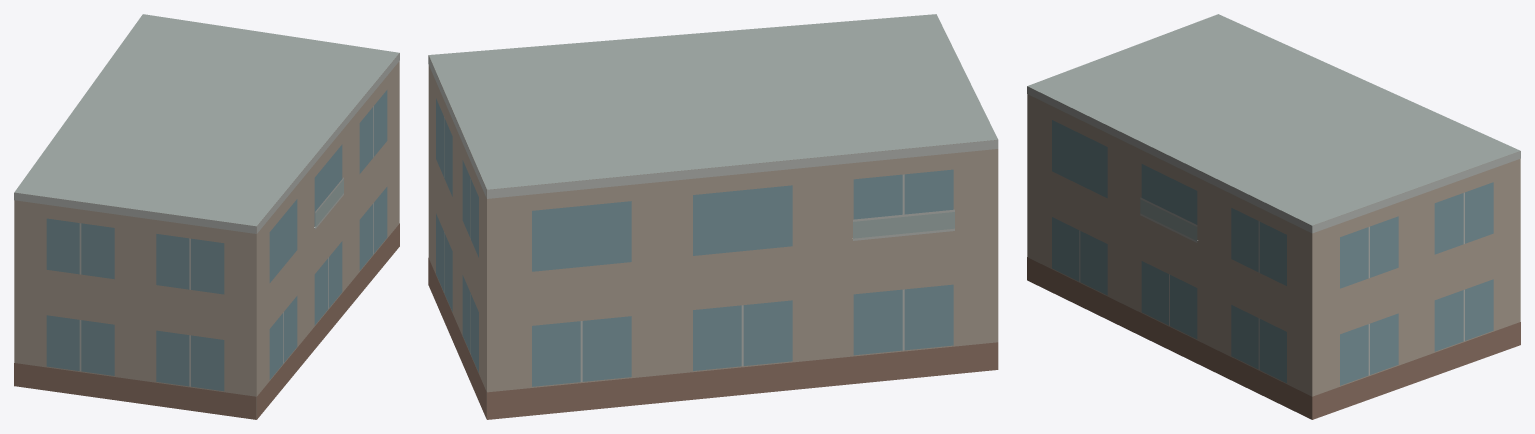
The model's file is survey-upis-32493443.glb.
3 renders of one model, left to right at view 1: azimuth 30°, elevation 25°; view 2: azimuth 150°, elevation 25°; view 3: azimuth 270°, elevation 25°, orthographic. The views are drawn at different scales.
Parts seen in each view (by area): view 1: survey-upis-32493443.tmp; view 2: survey-upis-32493443.tmp; view 3: survey-upis-32493443.tmp.
Part boxes in pixels (x1=…): survey-upis-32493443.tmp: x1=14, y1=14, x2=399, y2=419; survey-upis-32493443.tmp: x1=428, y1=14, x2=998, y2=419; survey-upis-32493443.tmp: x1=1027, y1=14, x2=1520, y2=419.
Bounding box in the file's own units: 14.27 × 6.1 × 14.06.
